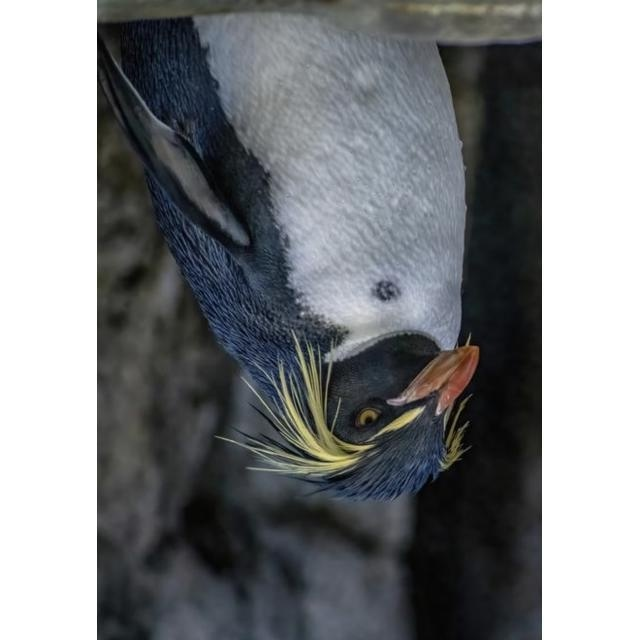penguin: (100, 15, 484, 504)
